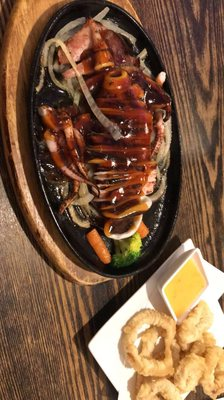sushi: (6, 2, 185, 287), (86, 238, 224, 400)
